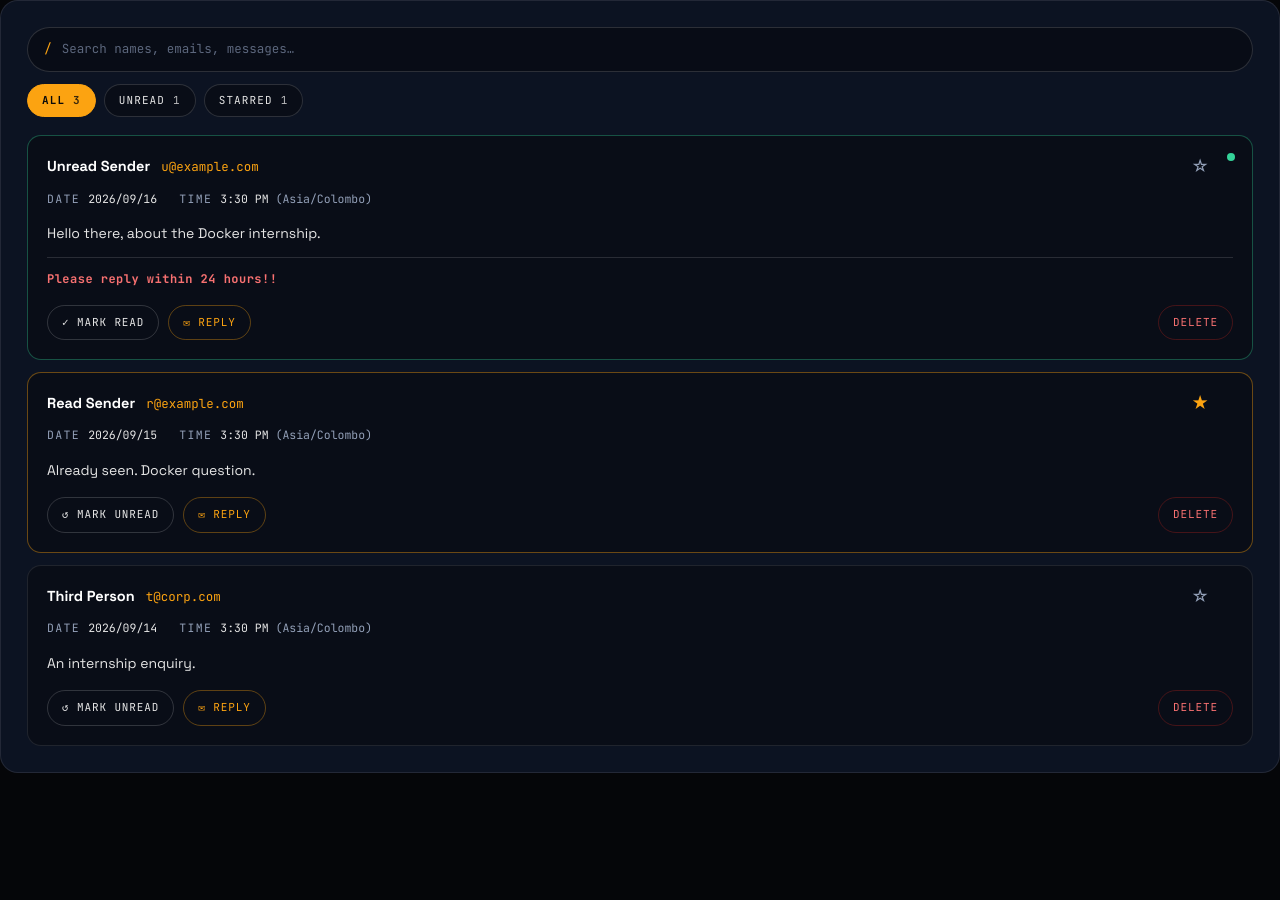
Test: the STAR (owner, 2026-10-07) › surfaces a failed star
The width and height of the screenshot is (1280, 900).
Click the button named "Star message from Unread Sender" at x=1200, y=167, box 1187,156 -> 1213,178
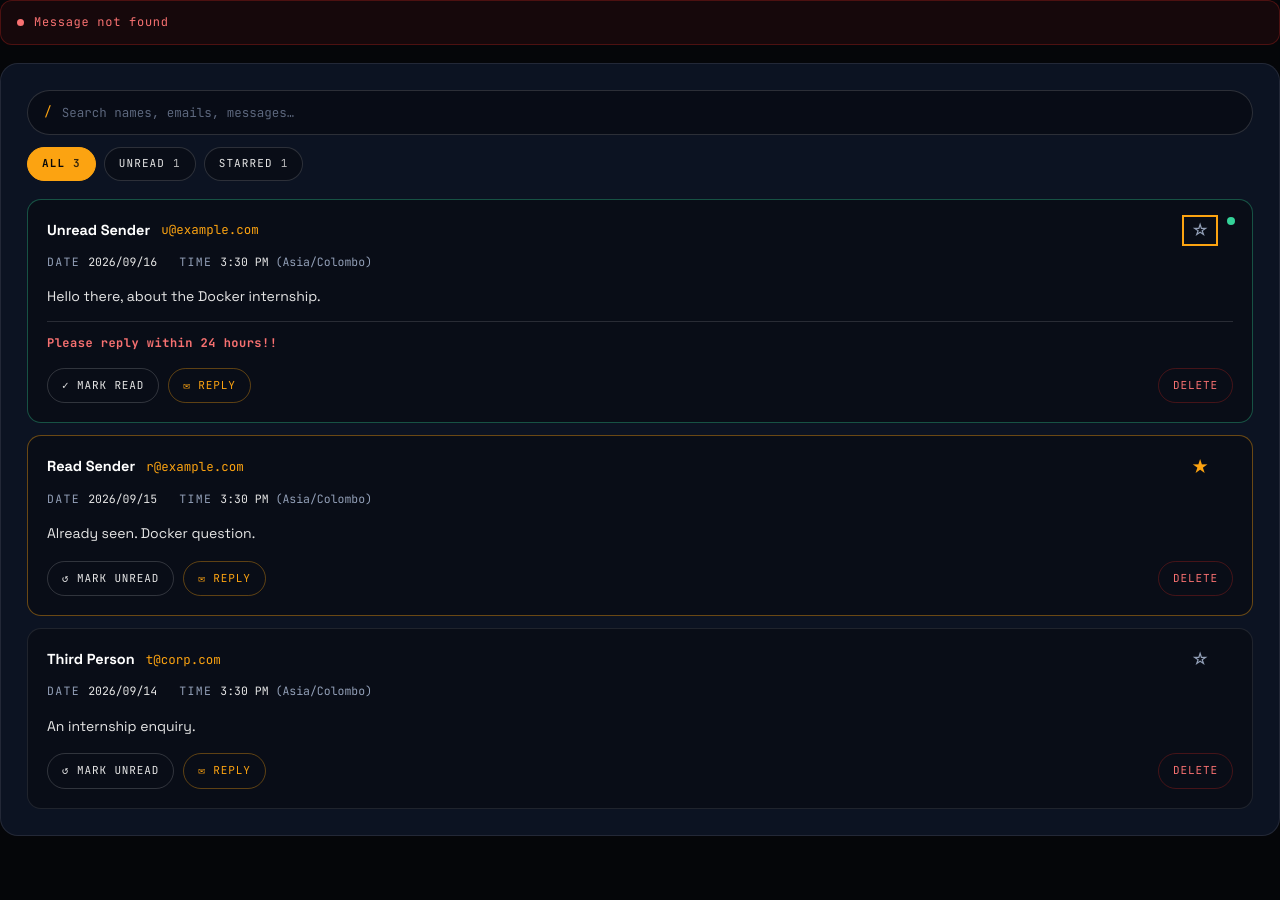
Expected: the message reads "Message not found", 34,14 -> 169,30
